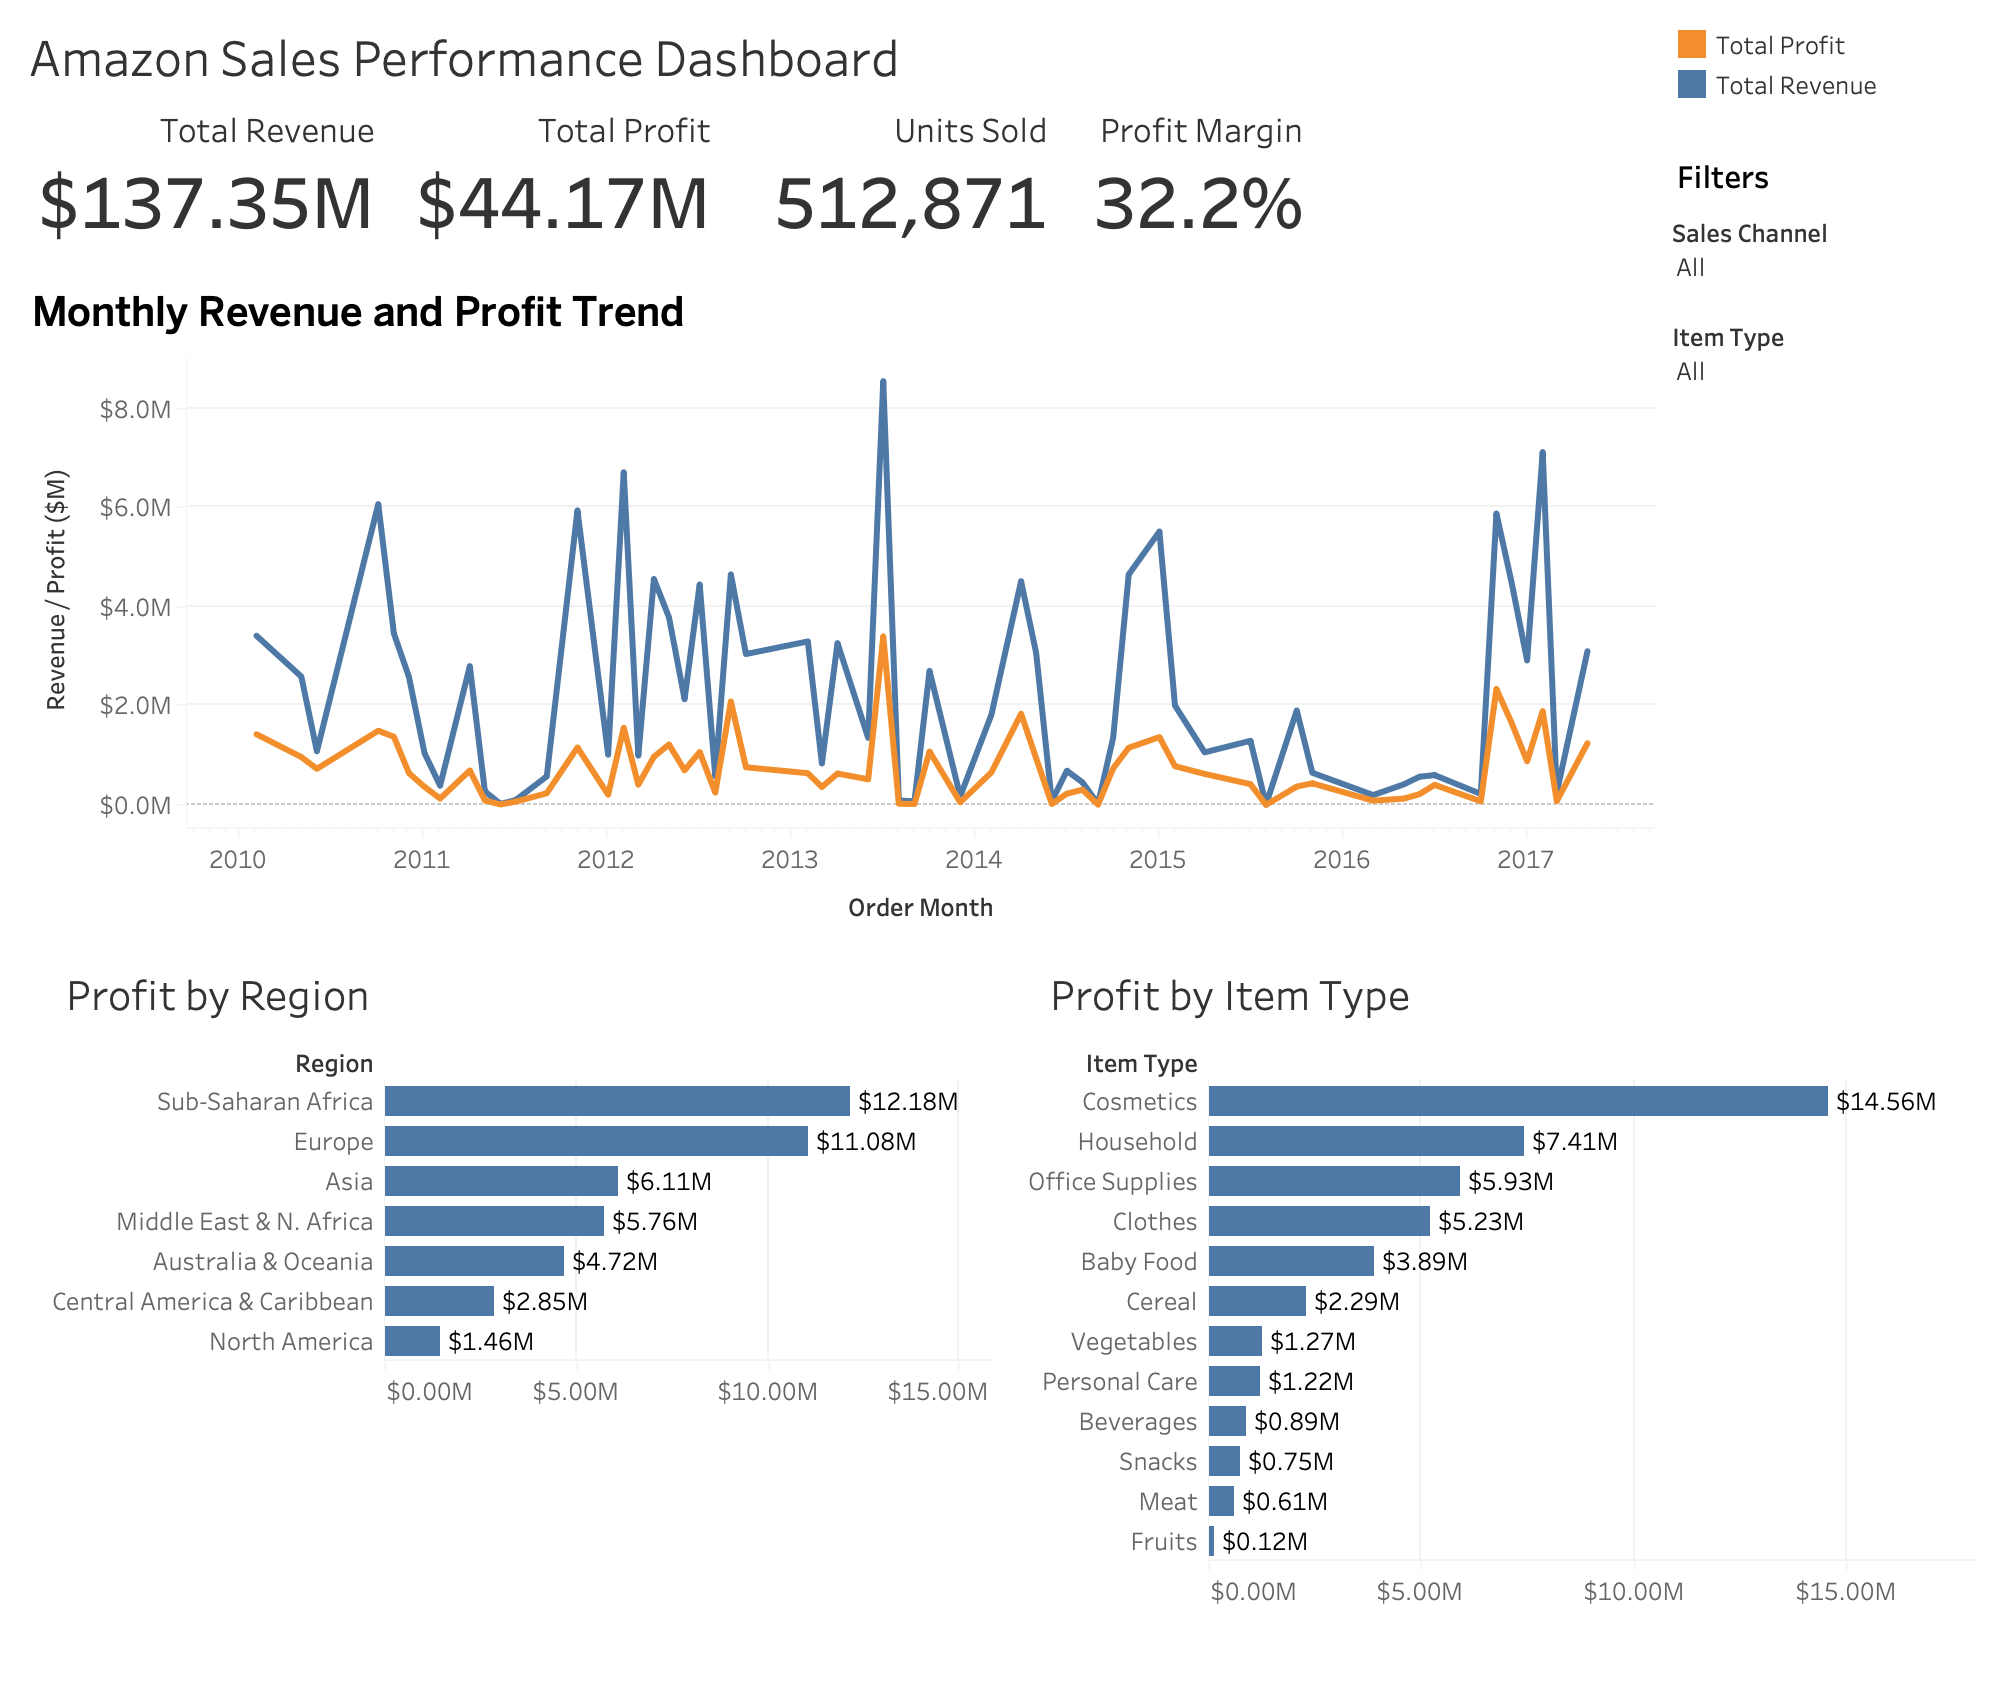

The page's visual inventory and layout, read from the dashboard file:
{"tool":"tableau","page":{"name":"Amazon Sales Performance Dashboard","canvas":[1000,850],"ordinal":0},"visuals":[{"type":"title","box":[8,8,824,42]},{"type":"legend","title":"Monthly Revenue and Profit Trend","param":"[federated.04kd7tk1uh4os51ftawim1yjbblb].[:Measure Names]","box":[832,8,160,48]},{"type":"worksheet","title":"KPI - Total Revenue","mark":"Text","box":[8,50,188,83]},{"type":"worksheet","title":"KPI - Total Profit","mark":"Text","box":[196,50,168,83]},{"type":"worksheet","title":"KPI - Units Sold","mark":"Text","box":[364,50,168,83]},{"type":"worksheet","title":"KPI - Profit Margin","mark":"Text","box":[532,50,128,83]},{"type":"text","box":[832,56,160,29]},{"type":"filter","title":"    Profit by Item Type","param":"[federated.04kd7tk1uh4os51ftawim1yjbblb].[none:Sales Channel:nk]","box":[832,85,160,52]},{"type":"worksheet","title":"Monthly Revenue and Profit Trend","mark":"Line","cols":["Order Date"],"box":[8,133,824,340]},{"type":"filter","title":"    Profit by Item Type","param":"[federated.04kd7tk1uh4os51ftawim1yjbblb].[none:Item Type:nk]","box":[832,137,160,52]},{"type":"worksheet","title":"    Profit by Region","mark":"Automatic","rows":["Region"],"cols":["Total Profit"],"box":[8,473,492,369]},{"type":"worksheet","title":"    Profit by Item Type","mark":"Automatic","rows":["Item Type"],"cols":["Total Profit"],"box":[500,473,492,369]}]}

Visuals, with their boxes in screenshot pixels (x1, y1, x2, y2), scaled from the page's 1000x850 canvas onto the 2000x1700 screenshot:
title: select_region(16, 16, 1664, 100)
"Monthly Revenue and Profit Trend" legend: select_region(1664, 16, 1984, 112)
"KPI - Total Revenue" worksheet (Text marks): select_region(16, 100, 392, 266)
"KPI - Total Profit" worksheet (Text marks): select_region(392, 100, 728, 266)
"KPI - Units Sold" worksheet (Text marks): select_region(728, 100, 1064, 266)
"KPI - Profit Margin" worksheet (Text marks): select_region(1064, 100, 1320, 266)
text: select_region(1664, 112, 1984, 170)
"    Profit by Item Type" filter: select_region(1664, 170, 1984, 274)
"Monthly Revenue and Profit Trend" worksheet (Line marks): select_region(16, 266, 1664, 946)
"    Profit by Item Type" filter: select_region(1664, 274, 1984, 378)
"    Profit by Region" worksheet: select_region(16, 946, 1000, 1684)
"    Profit by Item Type" worksheet: select_region(1000, 946, 1984, 1684)
